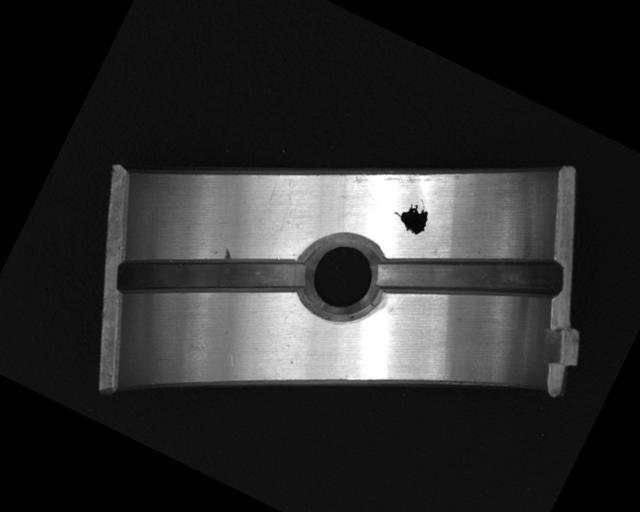blot: (388, 189, 437, 239)
bruise: (220, 246, 235, 262)
gap: (111, 190, 310, 359), (373, 193, 569, 355)
hole: (288, 223, 393, 330)
